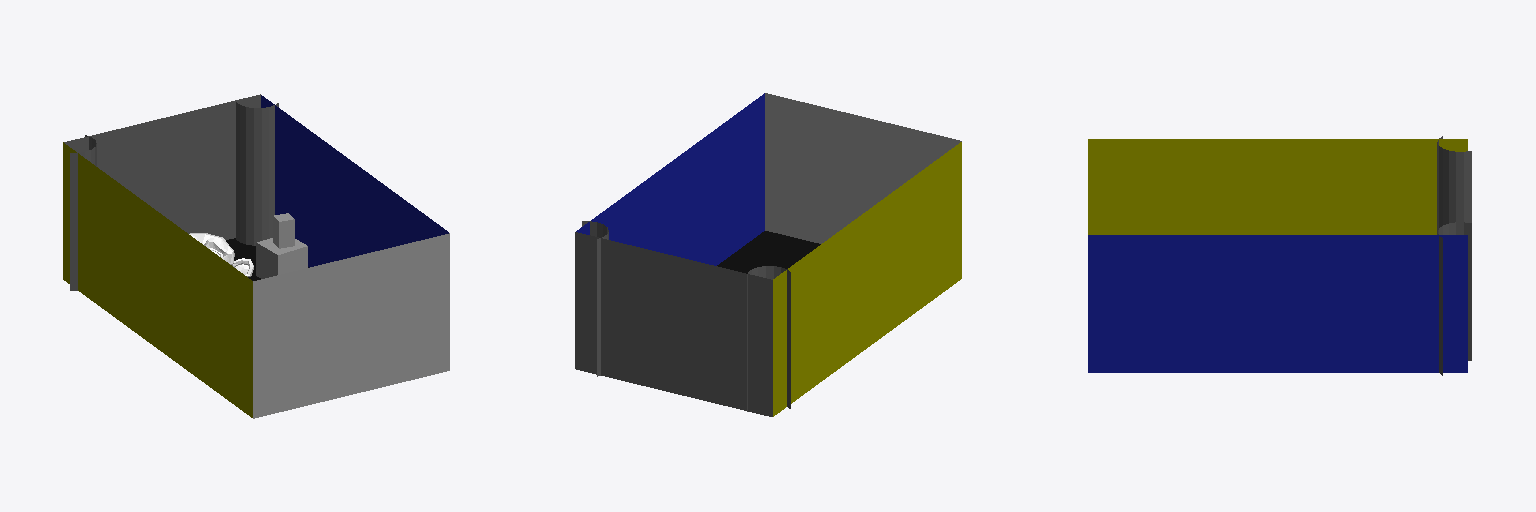
Rendered from suzanne.obj.
The picture shows the model from 3 angles: view 1: azimuth 30°, elevation 25°; view 2: azimuth 150°, elevation 25°; view 3: azimuth 270°, elevation 25°; orthographic projection.
Parts seen in each view (by area): view 1: Walls, PillarRight, Cube_big1, PillarLeft, Suzanne, Cube_med1; view 2: Walls, PillarLeft, PillarRight; view 3: Walls, PillarLeft, PillarRight.
Boxes of the visible parts, <box> form: Walls: <box>63,94,449,418</box>; PillarRight: <box>236,102,278,245</box>; Cube_big1: <box>256,238,307,278</box>; PillarLeft: <box>70,135,96,290</box>; Suzanne: <box>189,233,253,276</box>; Cube_med1: <box>273,213,294,248</box>; Walls: <box>575,93,961,416</box>; PillarLeft: <box>747,266,790,411</box>; PillarRight: <box>582,221,608,376</box>; Walls: <box>1088,139,1467,372</box>; PillarLeft: <box>1437,136,1471,231</box>; PillarRight: <box>1437,222,1471,375</box>.
Size of the model in its own units: 3.19 by 2 by 5.05.